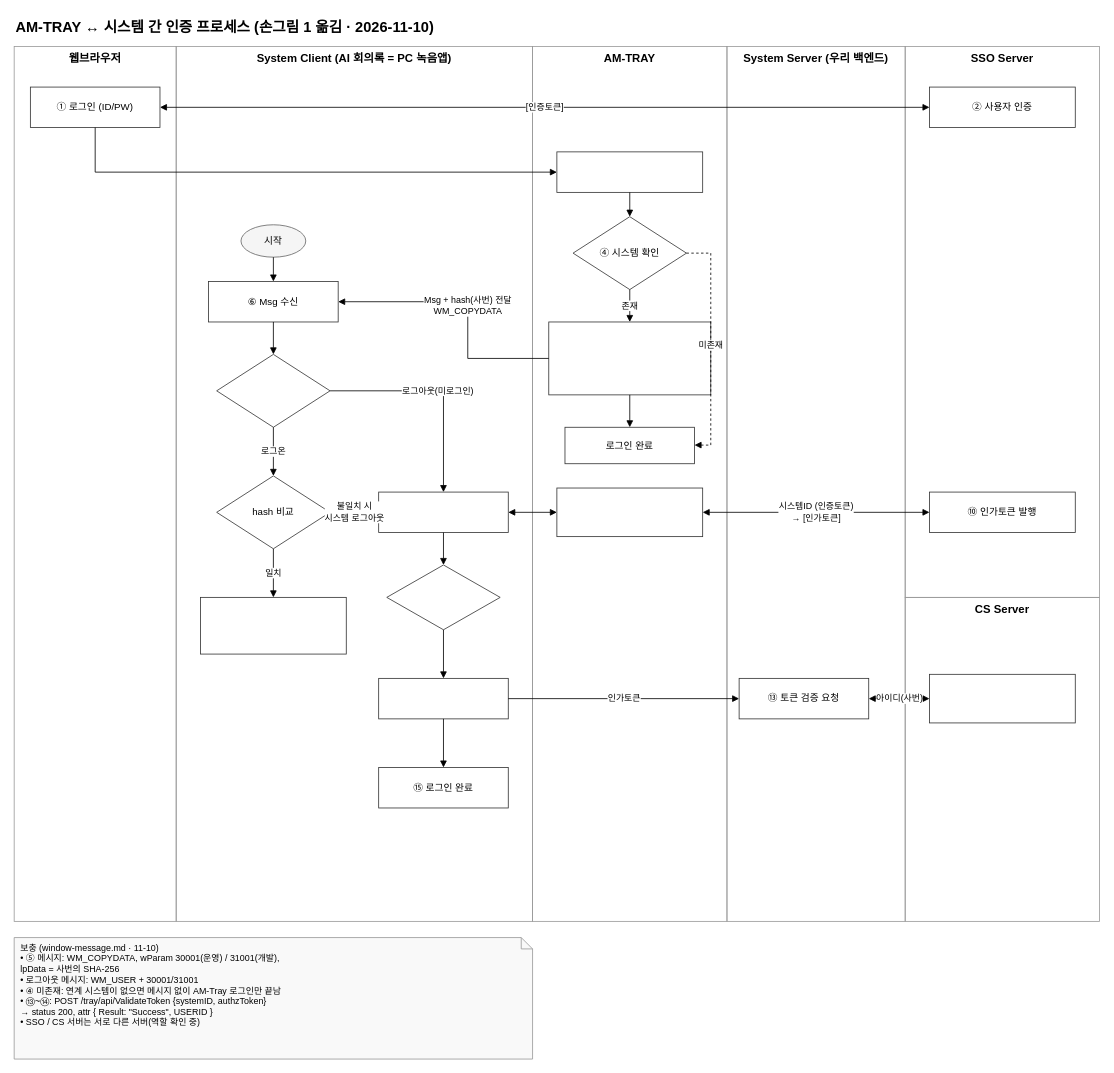
Image size: 1114x1073. Some labels were removed from this diagram. The shapes that lost their labels are listed below. From the top down, each one's centre as x and y in pixels, then its label:
[629,171]: ③ 로그인 처리
[629,358]: ⑤ Message 전송 (로그인 또는 사용자 변경 로그인 시)
[273,390]: ⑦ 로그인 상태
[443,512]: ⑧ 토큰 요청
[629,512]: ⑨ 시스템 인증
[443,597]: ⑪ 결과 확인
[273,625]: 종료 (로그인 상태 유지) ※ 원본 메모: DRM 로그인 상태 유지
[443,698]: ⑫ 토큰 인증
[1002,698]: ⑭ 인가토큰 검증 (시스템ID, 인가토큰)
